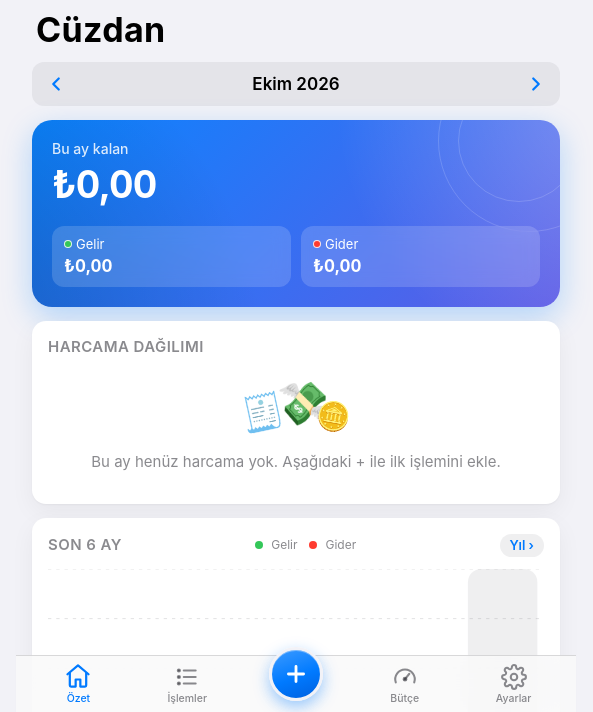
Test: Cüzdan › geçmiş aya bakarken bakiye etiketi değişir ve bu aya dönülebilir
Click the button named "Önceki ay".
click(56, 84)  # box [36,66,76,102]
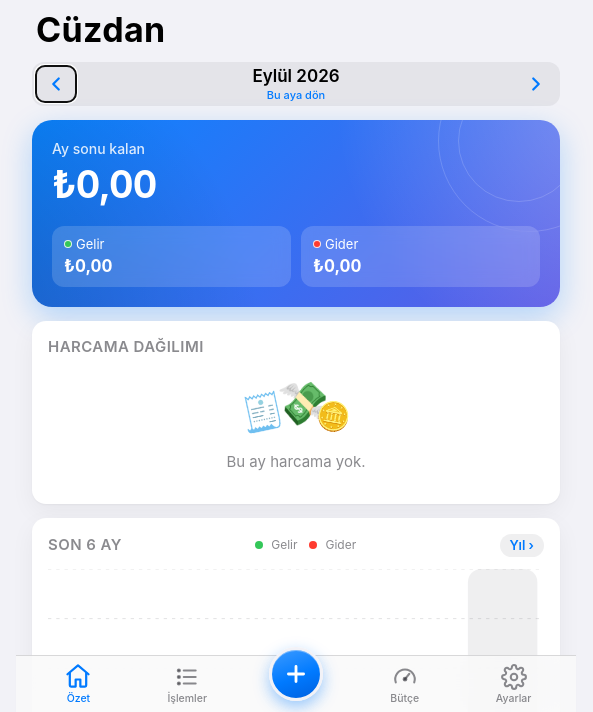
Check: the text "Ay sonu kalan" is shown, box [52,140,145,157]
Click the button "Eylül 2026 Bu aya dön".
click(296, 84)  # box [76,66,516,102]
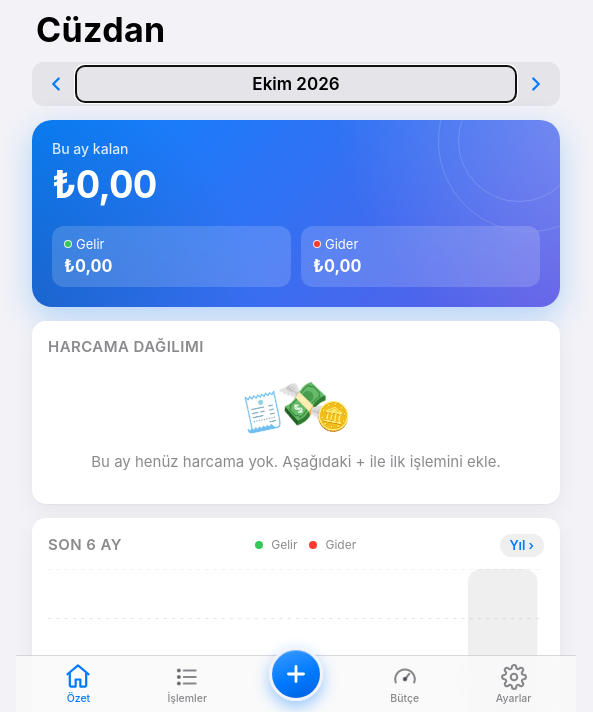
Check: the text "Bu ay kalan" is shown, box [52,140,128,157]
